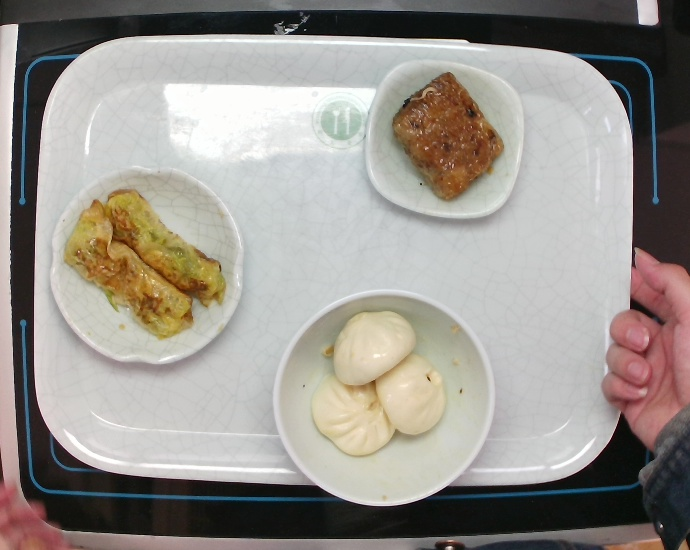JYsf-Ao_Yuan_Wan: (47, 161, 246, 367)
JYsf-Fan_Wan: (270, 286, 497, 508)
JYsf-Si_Fang_Die: (361, 57, 526, 221)
